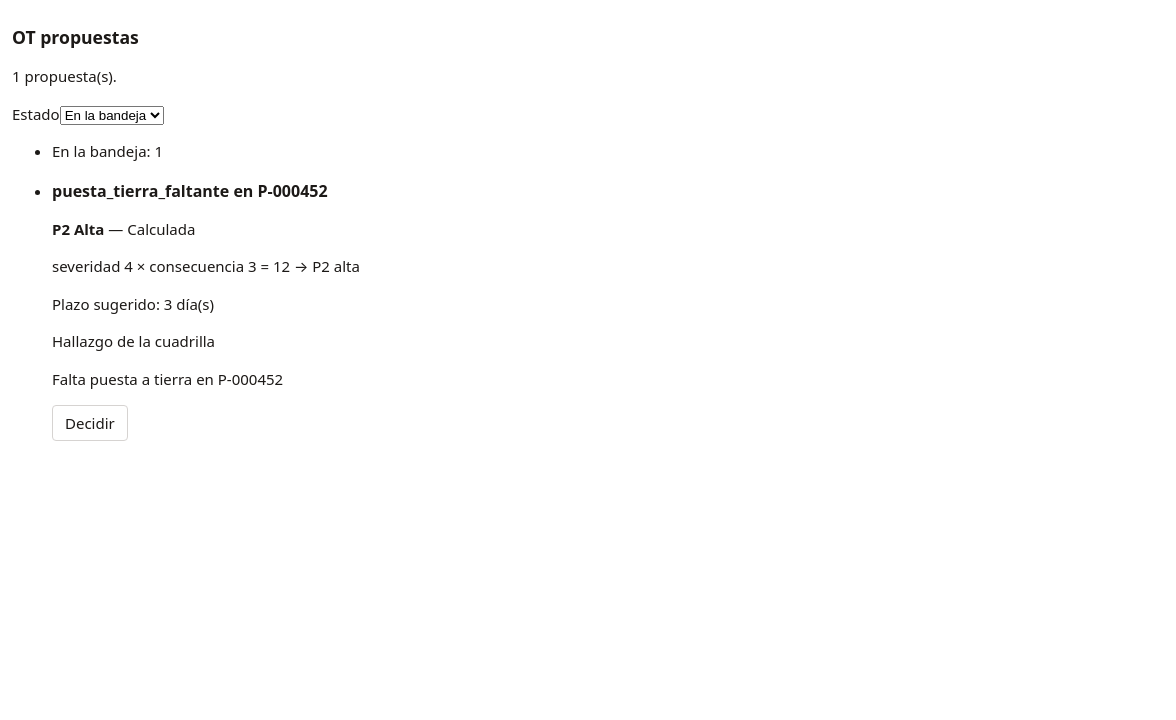
las tres decisiones › un error del servidor se muestra tal cual y no se traga
Step 1. Click the button "Decidir" → (90, 423), box 52,405 -> 128,441
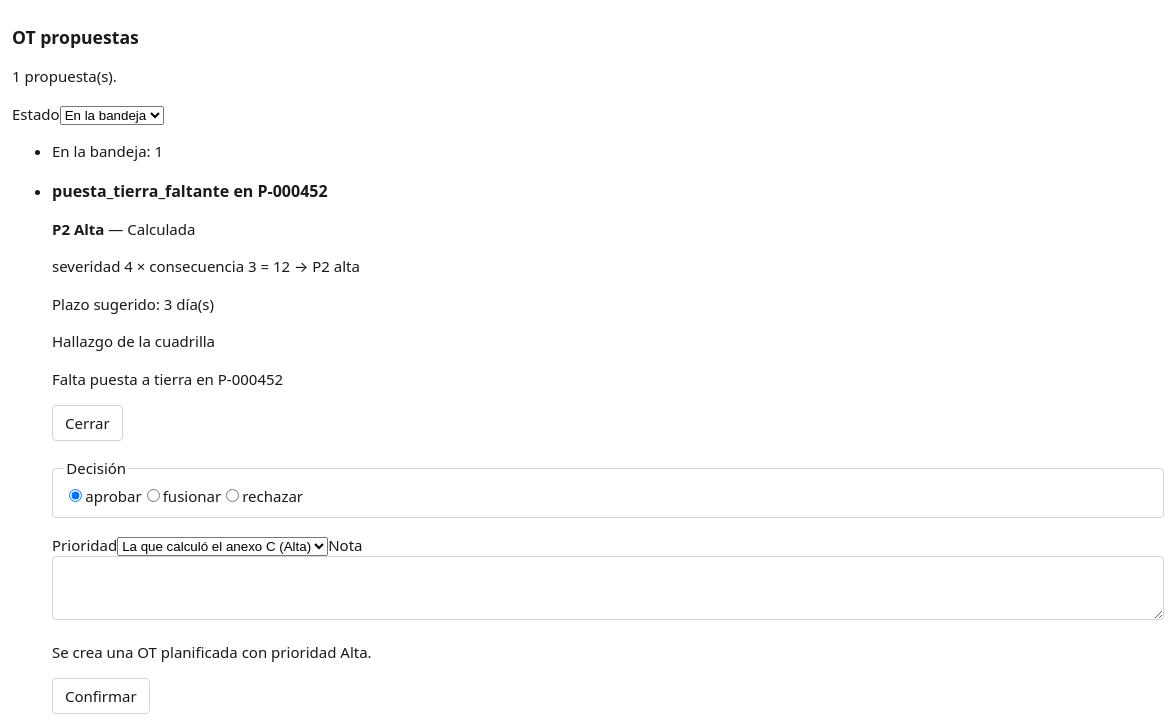
Step 2. Click the button "Confirmar" → (101, 696), box 52,678 -> 150,714
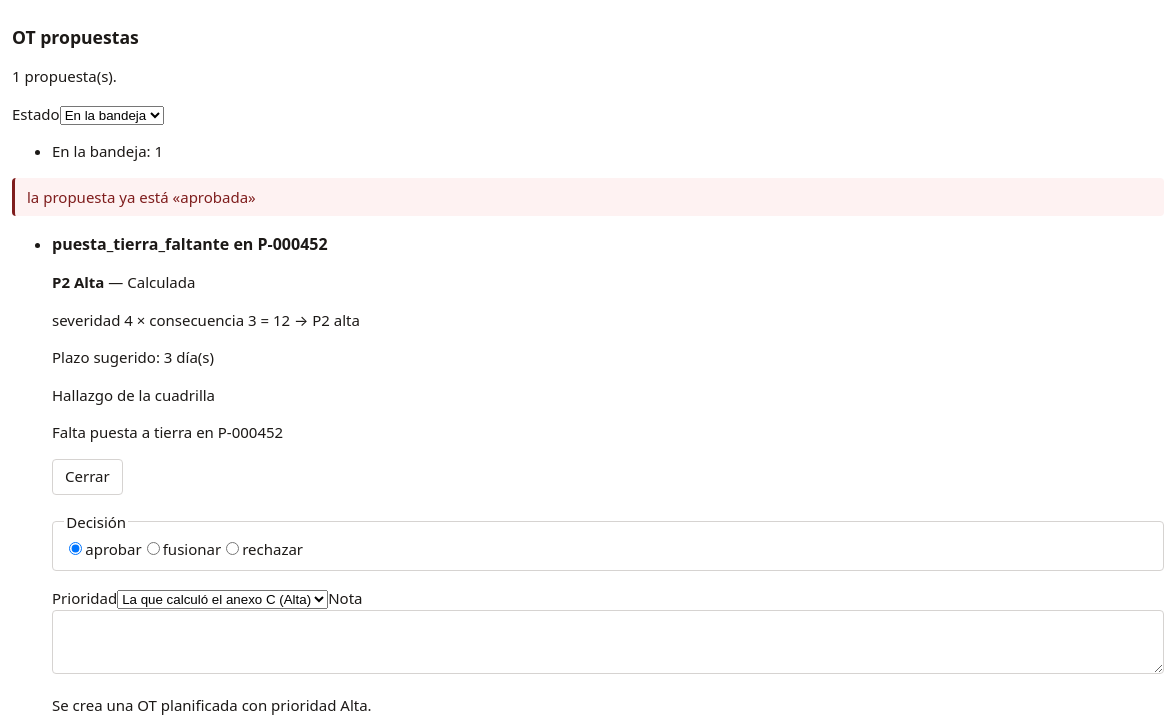
Expected: the text "la propuesta ya está «aprobada»" is shown, 12,178 -> 1164,216
